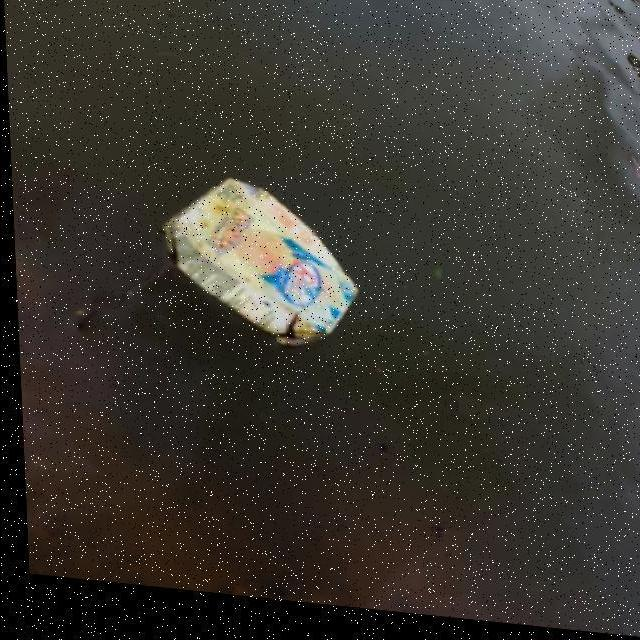Box: (156, 170, 364, 352)
